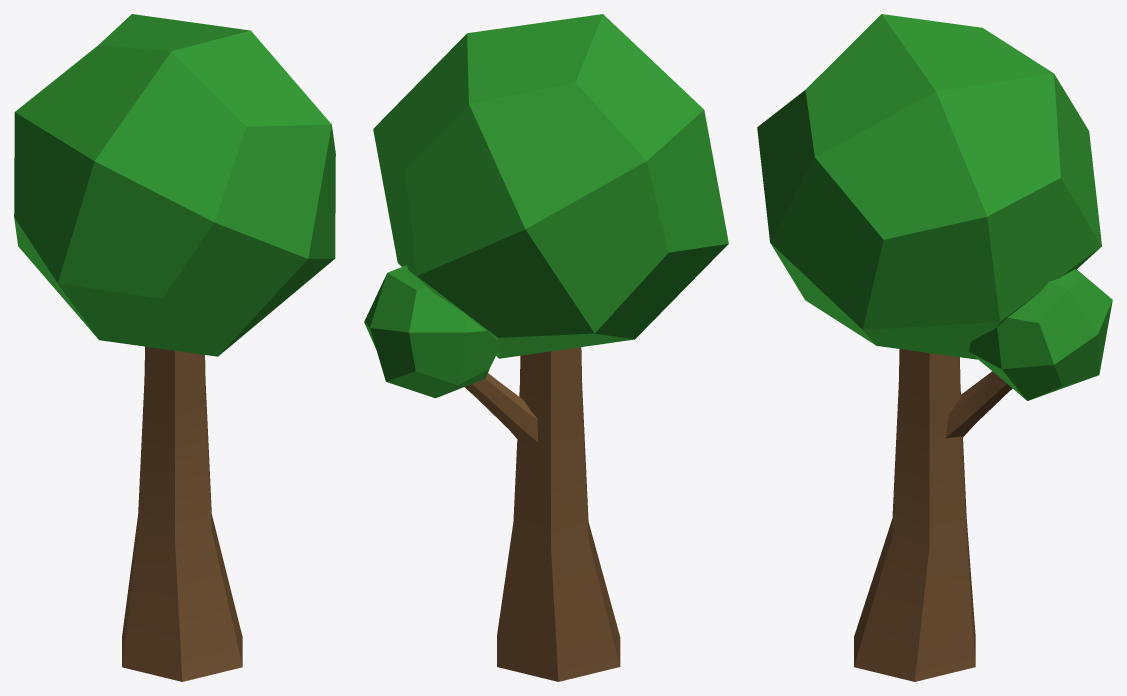
The model's file is shu.fbx.
3 renders of one model, left to right at view 1: azimuth 30°, elevation 25°; view 2: azimuth 150°, elevation 25°; view 3: azimuth 270°, elevation 25°, orthographic. The views are drawn at different scales.
Visible parts, largest first — view 1: pCube3; view 2: pCube3; view 3: pCube3.
Boxes of the visible parts, bbox=[...] form: pCube3: bbox=[14, 14, 335, 681]; pCube3: bbox=[364, 14, 728, 681]; pCube3: bbox=[757, 14, 1112, 681].
Size of the model in its own units: 2.09 by 4.25 by 2.19.
